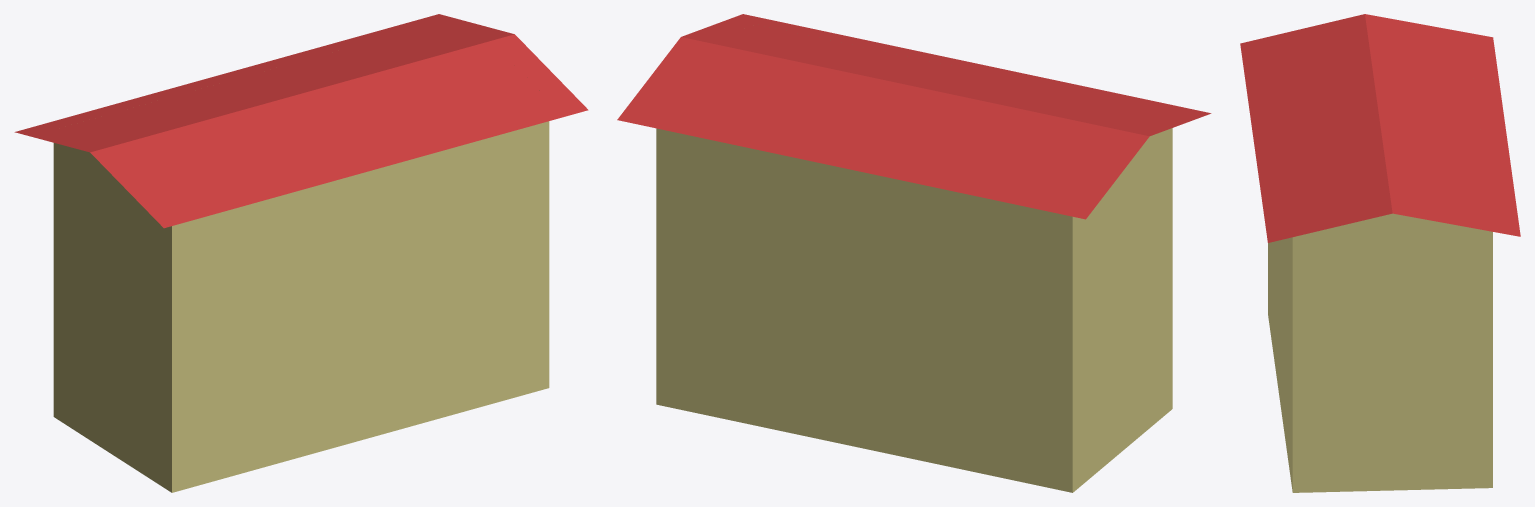
3 renders of one model, left to right at view 1: azimuth 30°, elevation 25°; view 2: azimuth 150°, elevation 25°; view 3: azimuth 270°, elevation 25°, orthographic. The views are drawn at different scales.
Size of the model in its own units: 9.22 by 5.31 by 6.02.
